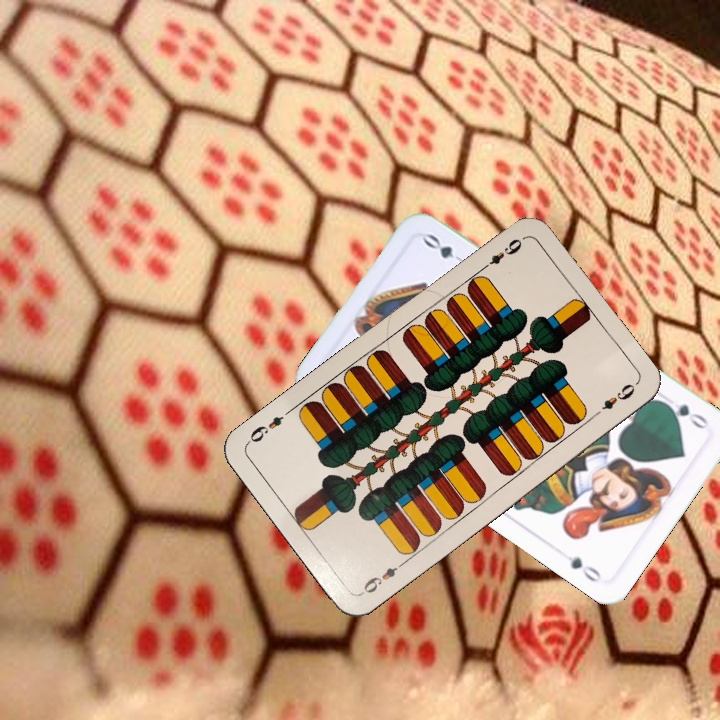E9: (357, 557, 408, 597), (477, 234, 525, 274)
GO: (658, 397, 711, 432)
